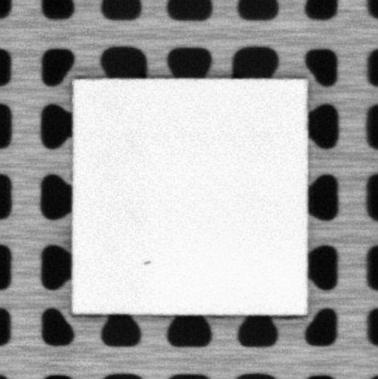DIE_INK: (141, 255, 153, 266)
